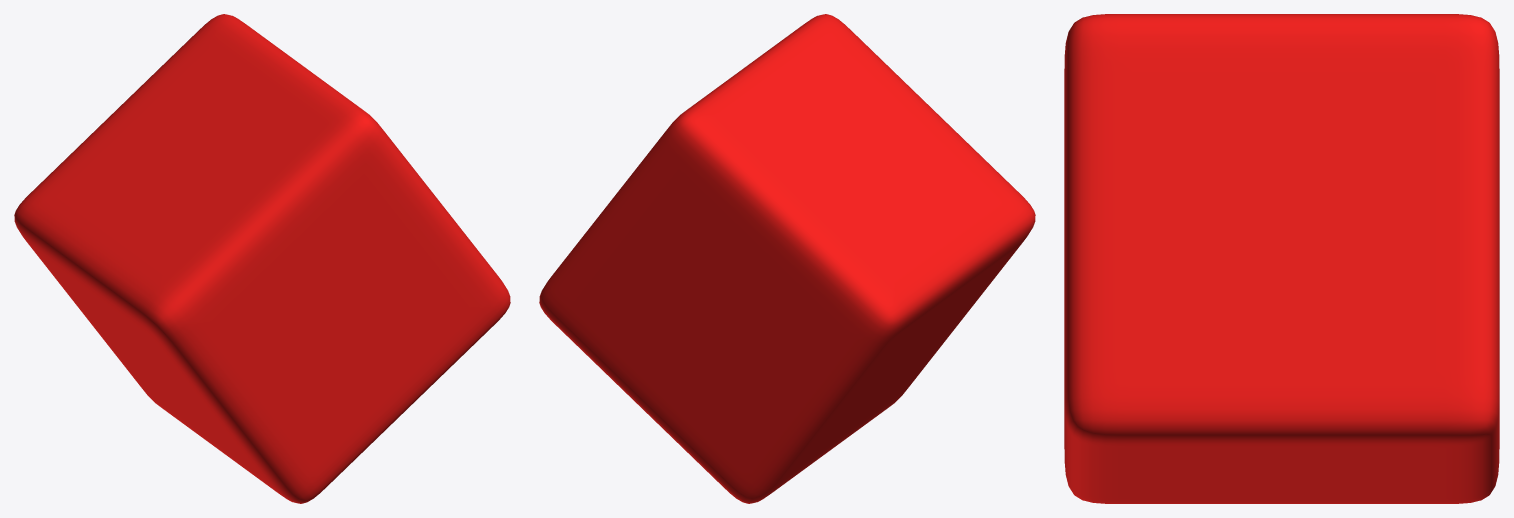
File: jele.fbx
3 renders of one model, left to right at view 1: azimuth 30°, elevation 25°; view 2: azimuth 150°, elevation 25°; view 3: azimuth 270°, elevation 25°, orthographic. The views are drawn at different scales.
Parts seen in each view (by area): view 1: Cube; view 2: Cube; view 3: Cube.
Boxes of the visible parts, box(x1,y1,x2,y2) form: Cube: box(14, 14, 510, 503); Cube: box(539, 14, 1035, 503); Cube: box(1064, 14, 1499, 503).
Size of what is drawn, in the model's own units: 267 by 267 by 200.
